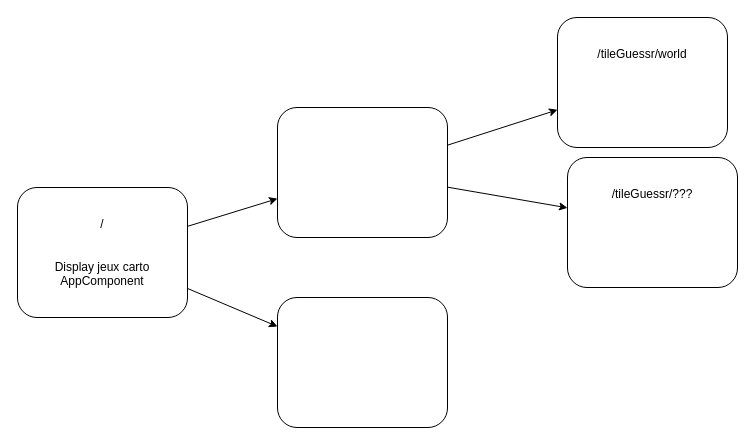
Image size: 755x445. Some labels were removed from this diagram. The centre of each missing label's shape, as x and y in pixels:
"/departements/welcome" goes at [362,362].
"/tileGuessr/welcome" goes at [362,172].
